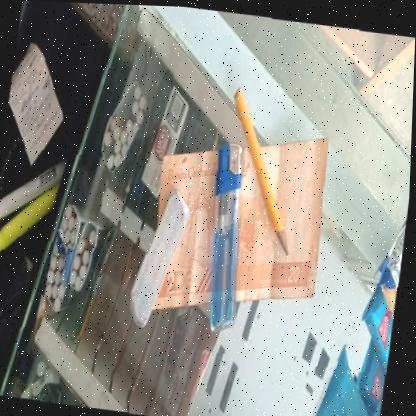twenty-back-vef: (145, 115, 334, 328)
